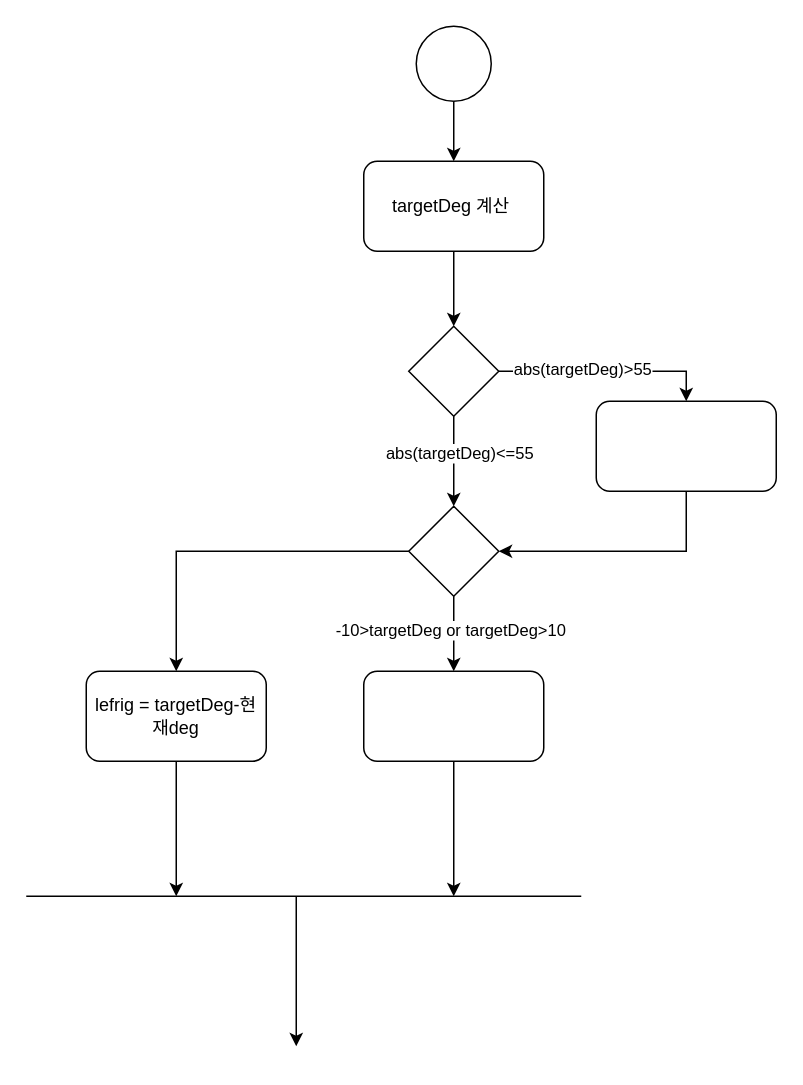
Image size: 803x1085. Some labels were removed from this diagram. The box of each missing label's shape, as (x1, y1, x2, y2) in pixels:
lefrig = ±20 로 설정: (362, 670, 544, 761)
targetDeg = ±55 로 설정: (595, 400, 776, 491)
